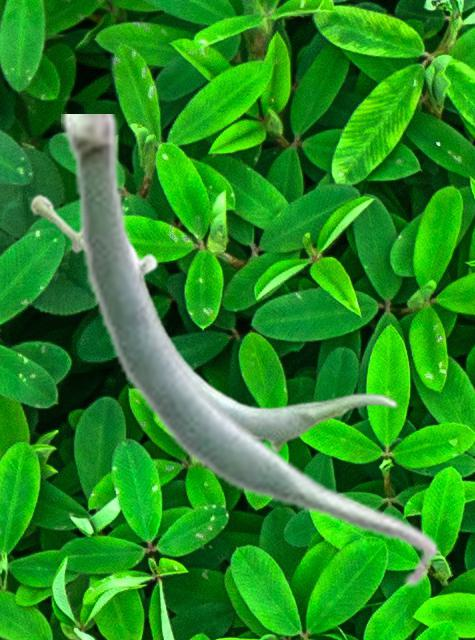french_bean: (61, 114, 439, 590), (29, 193, 397, 452)
